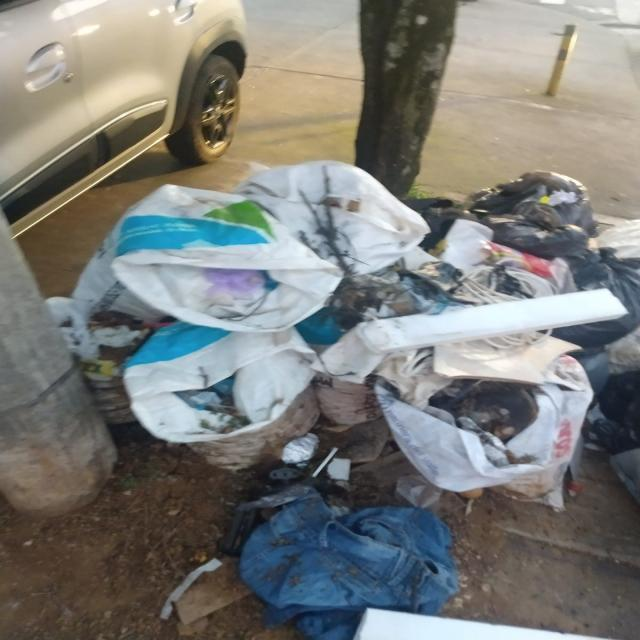Garbage_Bag: (75, 185, 346, 352), (370, 332, 594, 516), (128, 318, 322, 474), (478, 166, 605, 238)
